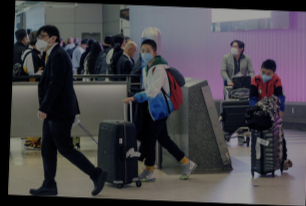with_mask: (34, 33, 52, 51), (140, 47, 153, 63), (260, 69, 275, 82), (229, 43, 241, 55)
